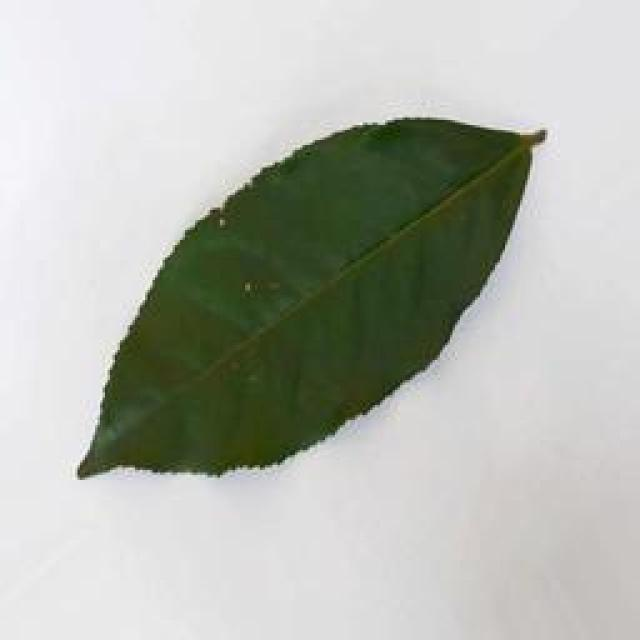Healthy: (72, 104, 551, 488)
